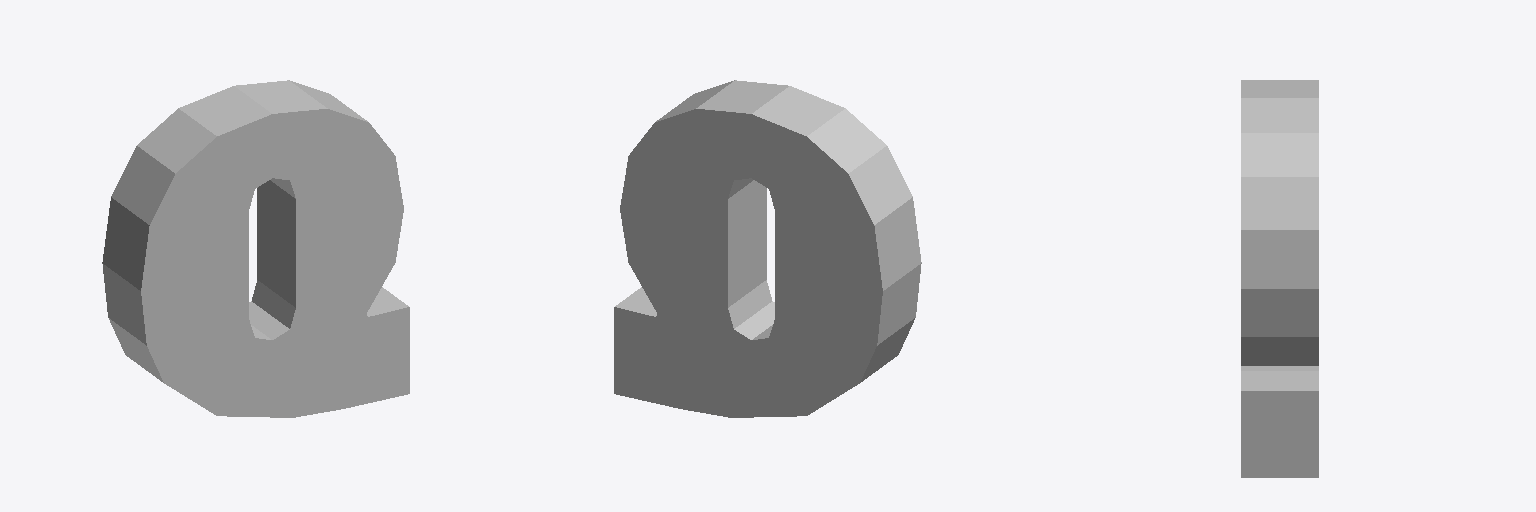
3 renders of one model, left to right at view 1: azimuth 30°, elevation 25°; view 2: azimuth 150°, elevation 25°; view 3: azimuth 270°, elevation 25°, orthographic.
Parts seen in each view (by area): view 1: text: ABCDEFGHIJKLMNOPQRSTUVWXYZ[number redacted]; view 2: text: ABCDEFGHIJKLMNOPQRSTUVWXYZ[number redacted]; view 3: text: ABCDEFGHIJKLMNOPQRSTUVWXYZ[number redacted].
Part boxes in pixels (x1,y1,x2,y2): text: ABCDEFGHIJKLMNOPQRSTUVWXYZ[number redacted]: (102,80,409,417); text: ABCDEFGHIJKLMNOPQRSTUVWXYZ[number redacted]: (614,80,921,417); text: ABCDEFGHIJKLMNOPQRSTUVWXYZ[number redacted]: (1241,80,1318,477).
Bounding box in the file's own units: 100 × 112 × 25.